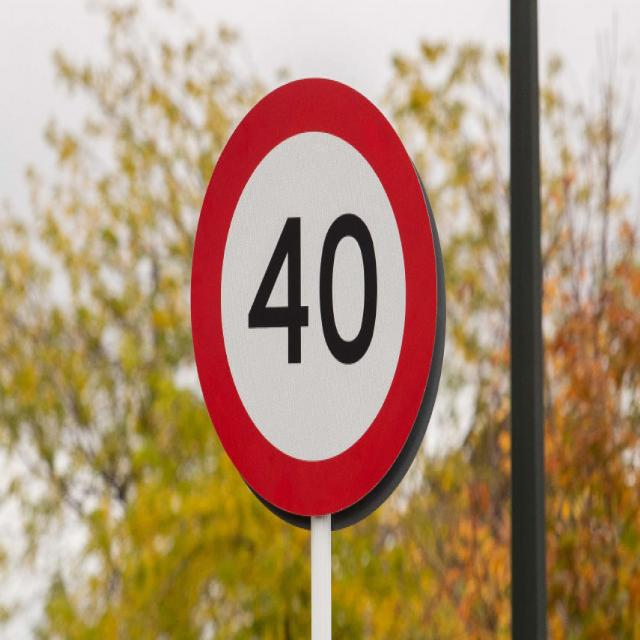speed limit 40: (186, 71, 446, 522)
